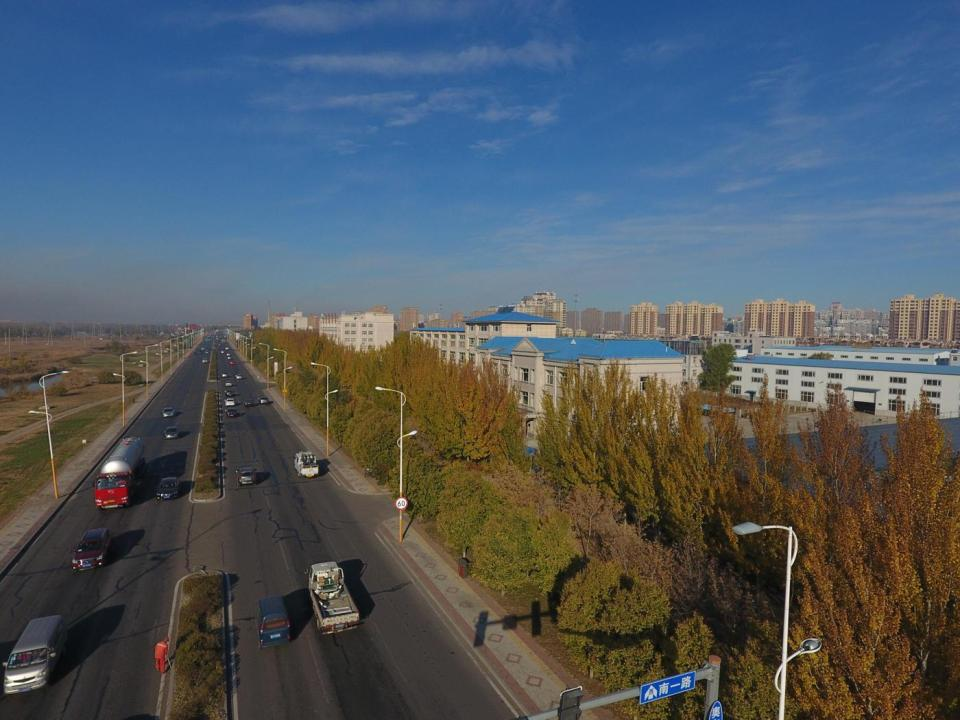car: (73, 528, 113, 571), (156, 477, 181, 501), (236, 467, 258, 488), (165, 426, 179, 439), (162, 407, 176, 420), (226, 407, 237, 418), (243, 398, 254, 406), (258, 396, 269, 404), (225, 398, 235, 406), (225, 390, 234, 396), (225, 380, 232, 386), (221, 372, 228, 377), (236, 374, 243, 379), (202, 358, 207, 363), (229, 361, 235, 365), (220, 350, 224, 354), (195, 348, 199, 351), (201, 347, 204, 350), (227, 357, 231, 359), (226, 353, 230, 355), (205, 351, 209, 353), (192, 352, 196, 354), (218, 344, 221, 346), (205, 348, 208, 350), (199, 351, 202, 353), (226, 348, 228, 350), (220, 339, 222, 341), (216, 339, 218, 341)
truck: (94, 436, 148, 511), (308, 560, 360, 635), (294, 450, 320, 478), (221, 338, 226, 344)
van: (4, 614, 71, 696), (254, 595, 292, 650)
